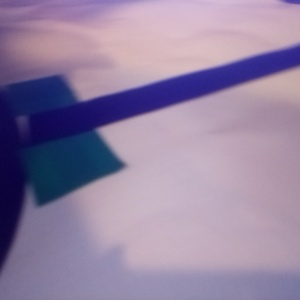bottom_left: (4, 40, 100, 69)
